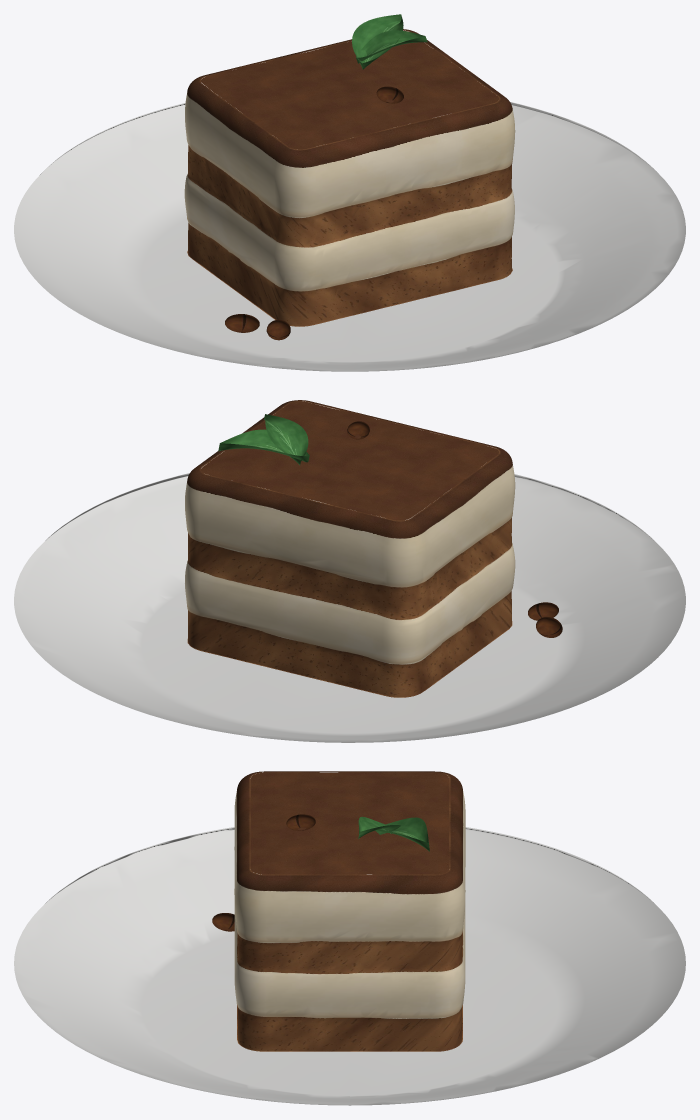
The model's file is tiramisu.lite.glb.
3 views of the same model, one above another, from view 1: azimuth 30°, elevation 25°; view 2: azimuth 150°, elevation 25°; view 3: azimuth 270°, elevation 25° (orthographic).
Parts seen in each view (by area): view 1: tiramisu; view 2: tiramisu; view 3: tiramisu.
Part boxes in pixels (x1,y1,x2,y2): tiramisu: [14, 14, 685, 371]; tiramisu: [14, 400, 685, 742]; tiramisu: [14, 771, 685, 1105].
Size of the model in its own units: 0.22 by 0.0777 by 0.22.
Materials: 6 (5 with a texture image).
